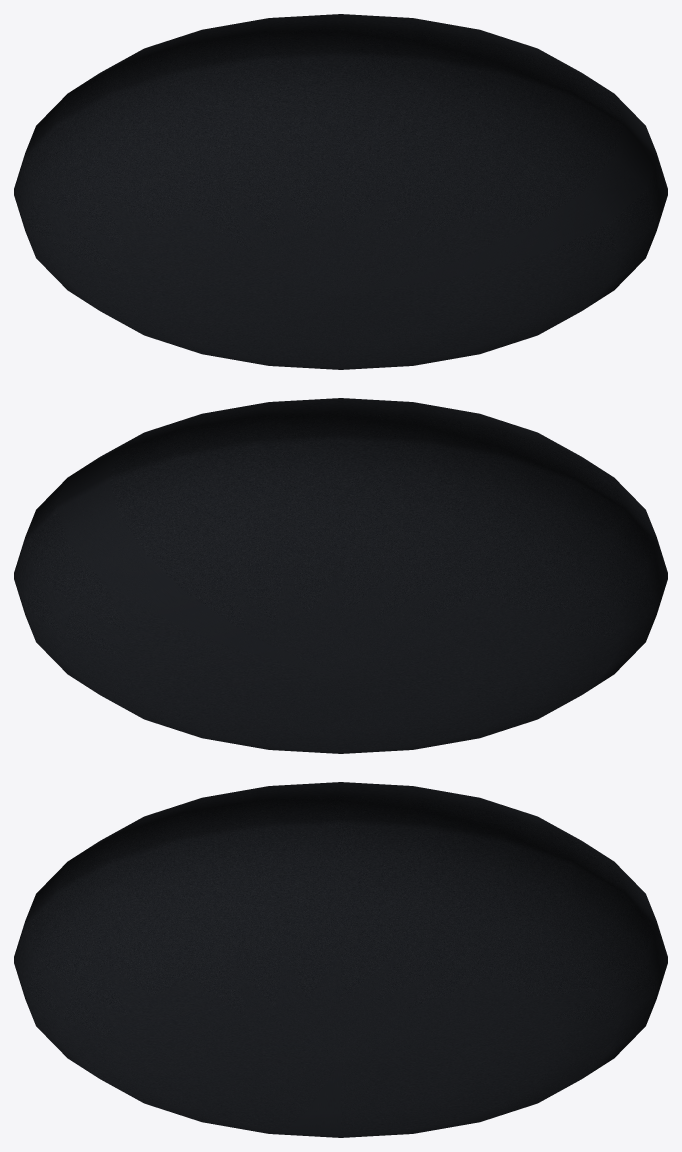
The model's file is BlackStone_Gameplay.glb.
3 renders of one model, top to bottom at view 1: azimuth 30°, elevation 25°; view 2: azimuth 150°, elevation 25°; view 3: azimuth 270°, elevation 25°, orthographic.
Visible parts, largest first — view 1: BlackStone_Gameplay; view 2: BlackStone_Gameplay; view 3: BlackStone_Gameplay.
Part boxes in pixels (box(x1,y1,x2,y2)): BlackStone_Gameplay: box(14, 14, 667, 369); BlackStone_Gameplay: box(14, 398, 667, 753); BlackStone_Gameplay: box(14, 782, 667, 1137).
Bounding box in the file's own units: 0.0548 × 0.019 × 0.0548.
Materials: 1 (1 with a texture image).
